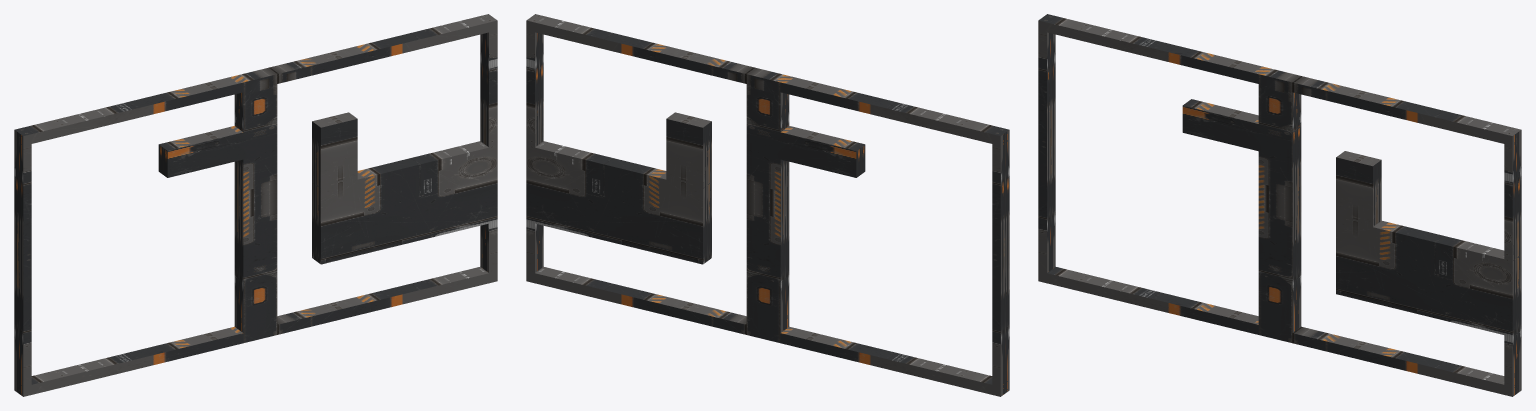
Rendered from Level1.fbx.
3 renders of one model, left to right at view 1: azimuth 30°, elevation 25°; view 2: azimuth 150°, elevation 25°; view 3: azimuth 330°, elevation 25°, orthographic.
Visible parts, largest first — view 1: Cube; view 2: Cube; view 3: Cube.
Boxes of the visible parts, box(x1,y1,x2,y2) form: Cube: box(14, 14, 497, 396); Cube: box(526, 14, 1009, 396); Cube: box(1038, 14, 1521, 396).
Size of the model in its own units: 3199 by 1681 by 104.
